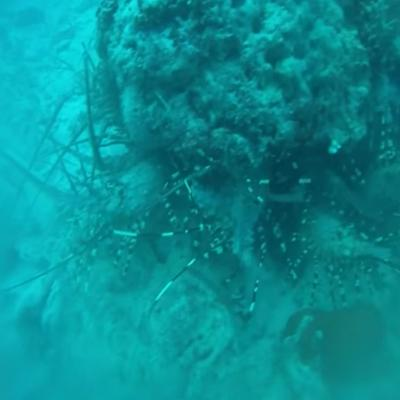lobster: (211, 180, 264, 257), (101, 166, 151, 242), (312, 212, 356, 284)
